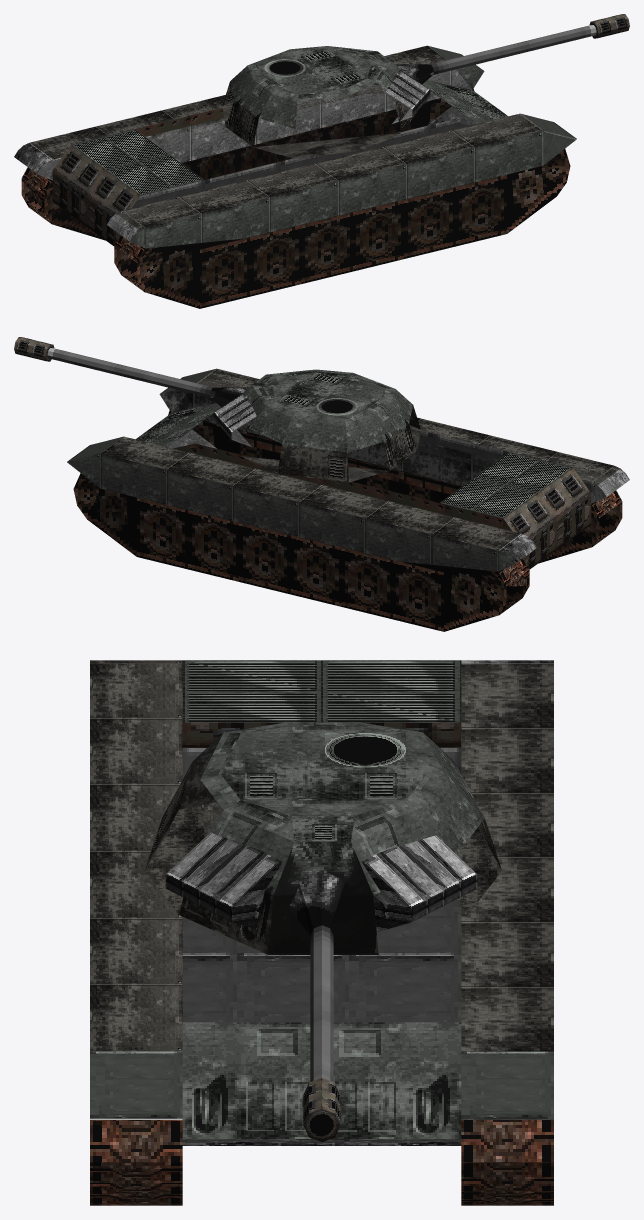
Rendered from primary_14.glb.
3 views of the same model, one above another, from view 1: azimuth 30°, elevation 25°; view 2: azimuth 150°, elevation 25°; view 3: azimuth 270°, elevation 25° (orthographic). The views are drawn at different scales.
Parts seen in each view (by area): view 1: Object; view 2: Object; view 3: Object.
Part boxes in pixels (<box>): Object: <box>14,14,629,308</box>; Object: <box>14,337,629,631</box>; Object: <box>90,660,553,1205</box>.
Size of the model in its own units: 10.25 by 2.71 by 3.72.
Materials: 81 (81 with a texture image).
